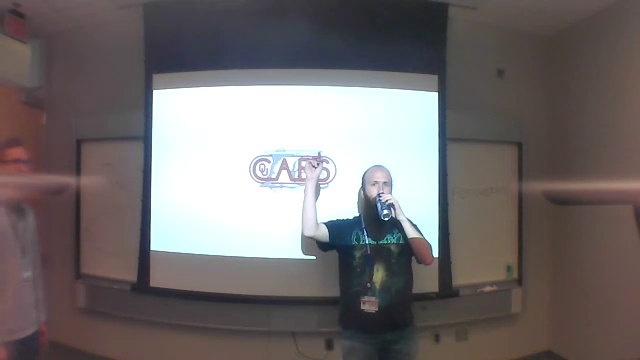up: (298, 150, 331, 190)
